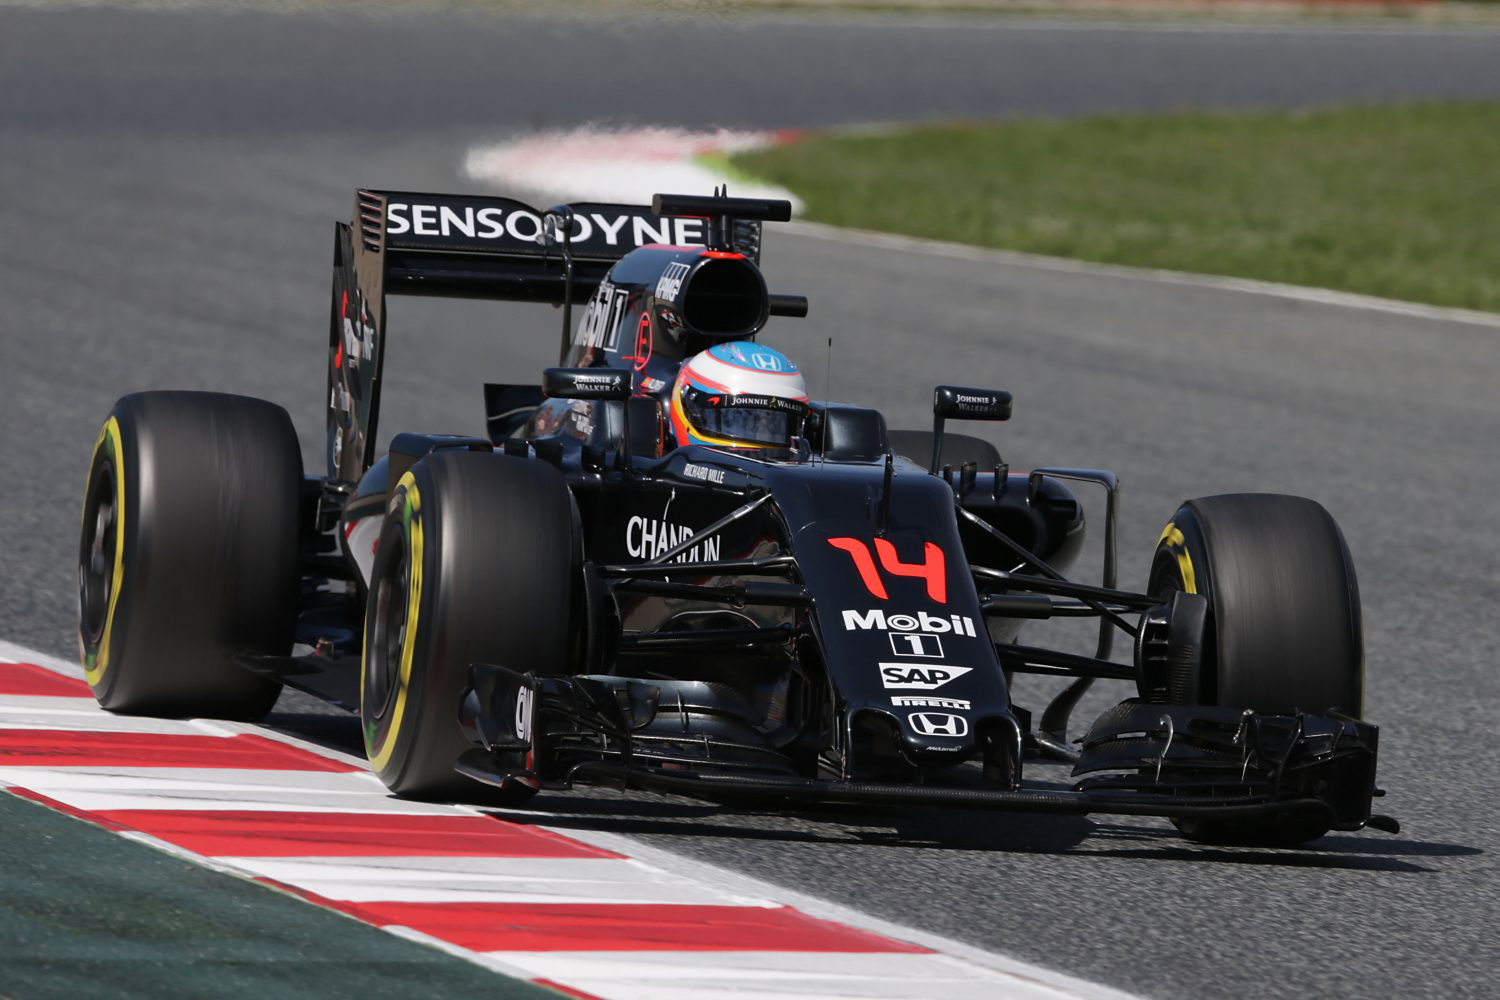F1 Car: (62, 177, 1417, 884)
